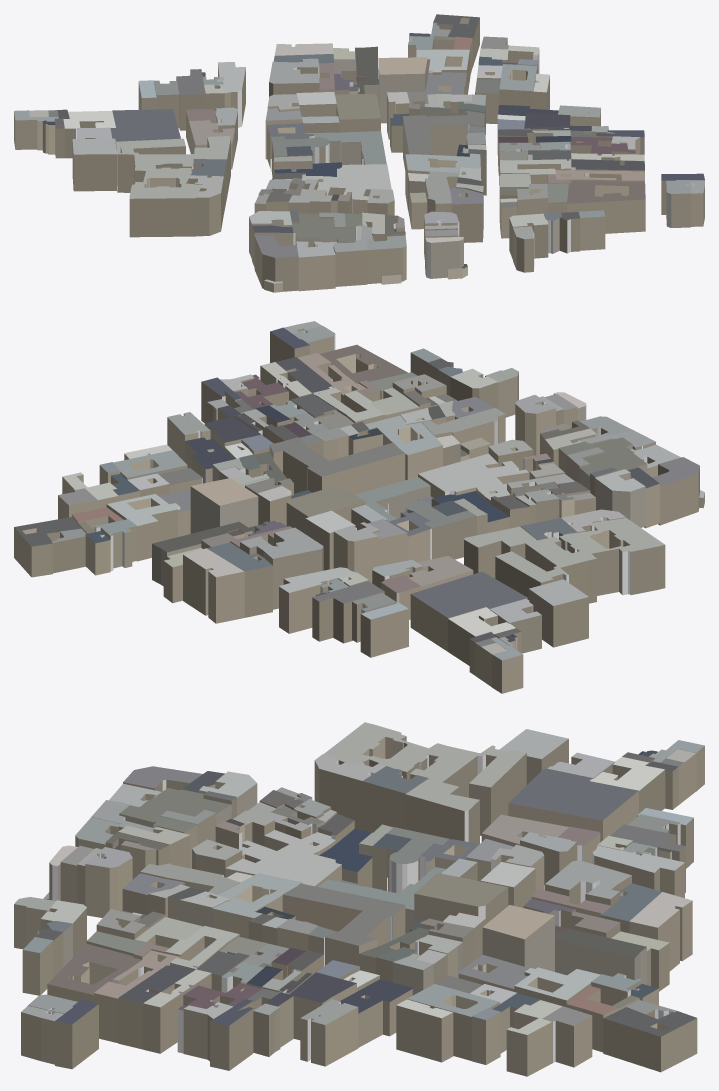
3 renders of one model, top to bottom at view 1: azimuth 30°, elevation 25°; view 2: azimuth 150°, elevation 25°; view 3: azimuth 270°, elevation 25°, orthographic. The views are drawn at different scales.
Visible parts, largest first — view 1: tuile; view 2: tuile; view 3: tuile.
Part boxes in pixels (box(x1,y1,x2,y2)): tuile: box(14, 14, 704, 292); tuile: box(14, 321, 704, 693); tuile: box(14, 722, 704, 1076).
Size of the model in its own units: 275 by 29.9 by 266.
